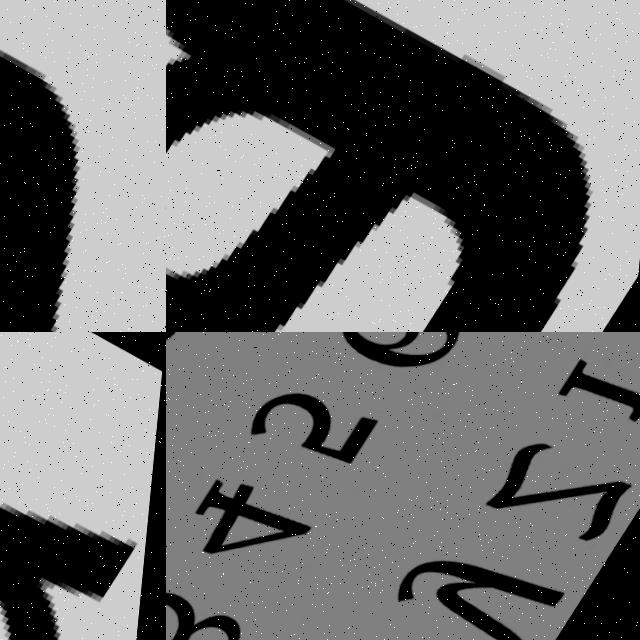1: (552, 343, 640, 448)
3: (166, 563, 277, 640)
4: (174, 459, 344, 601)
5: (239, 358, 407, 496)
6: (322, 332, 494, 406)
A: (166, 0, 640, 332)
Q: (0, 332, 166, 640)
S: (0, 0, 166, 332)
